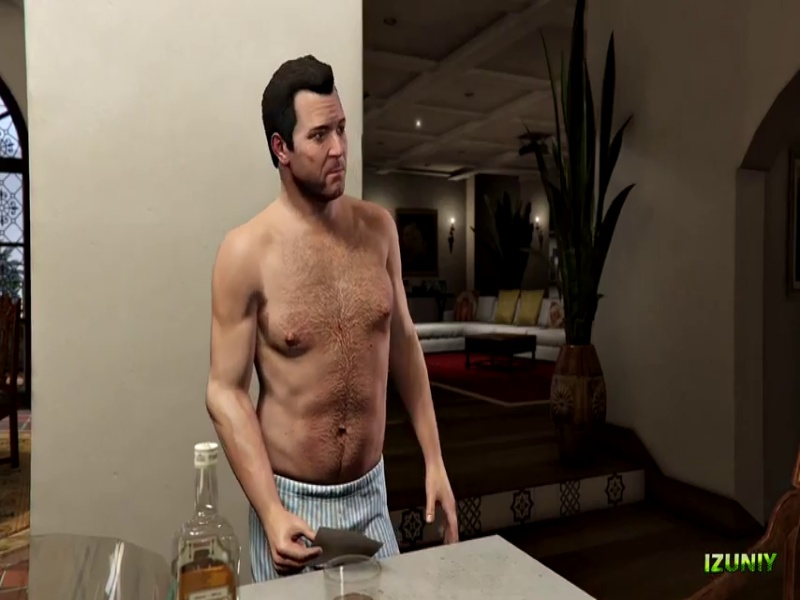human: (215, 61, 440, 585)
